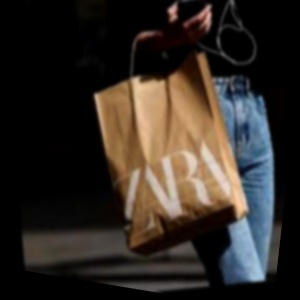zara: (189, 56, 299, 226)
